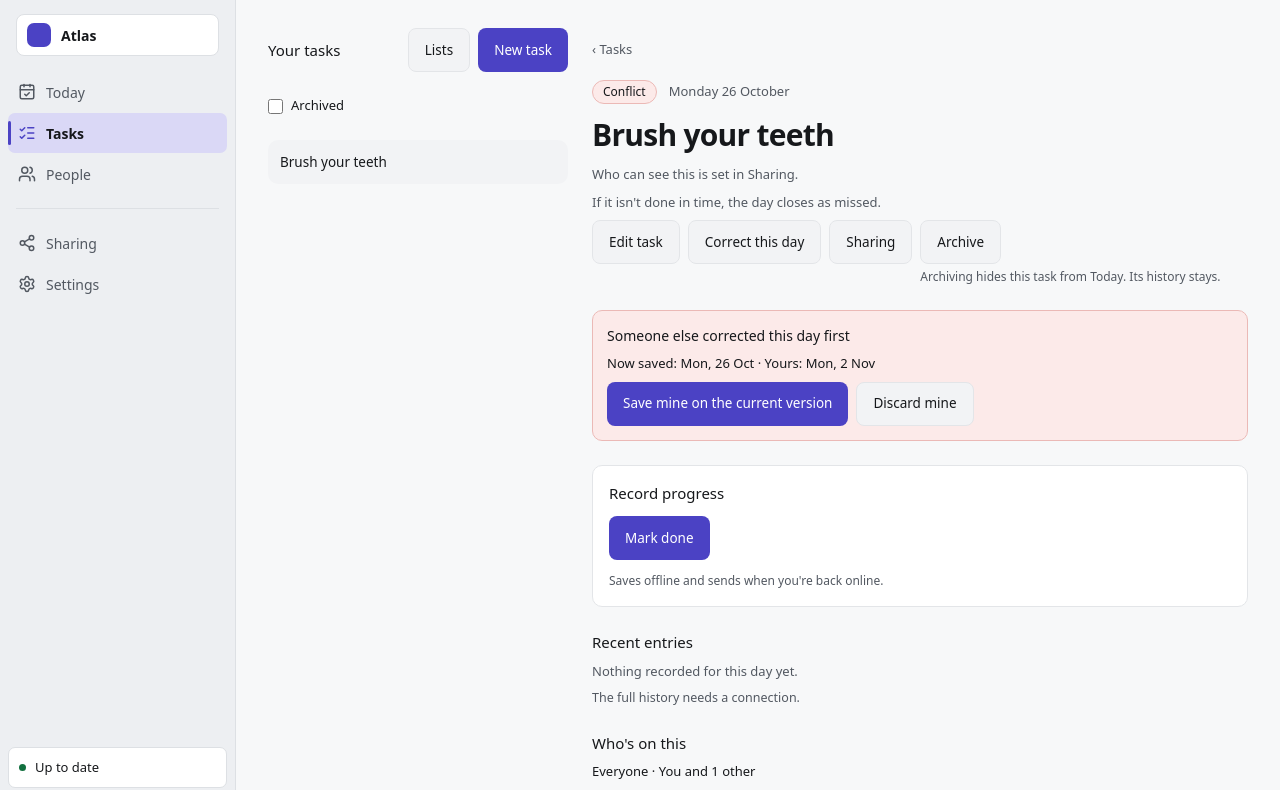
Save mine on the current version (S7, S8) › the conflicted correction edited elsewhere: the replacement is refused, nothing changes, and it says so
Click the button "Save mine on the current version" at (728, 404), box [607,382,848,426]
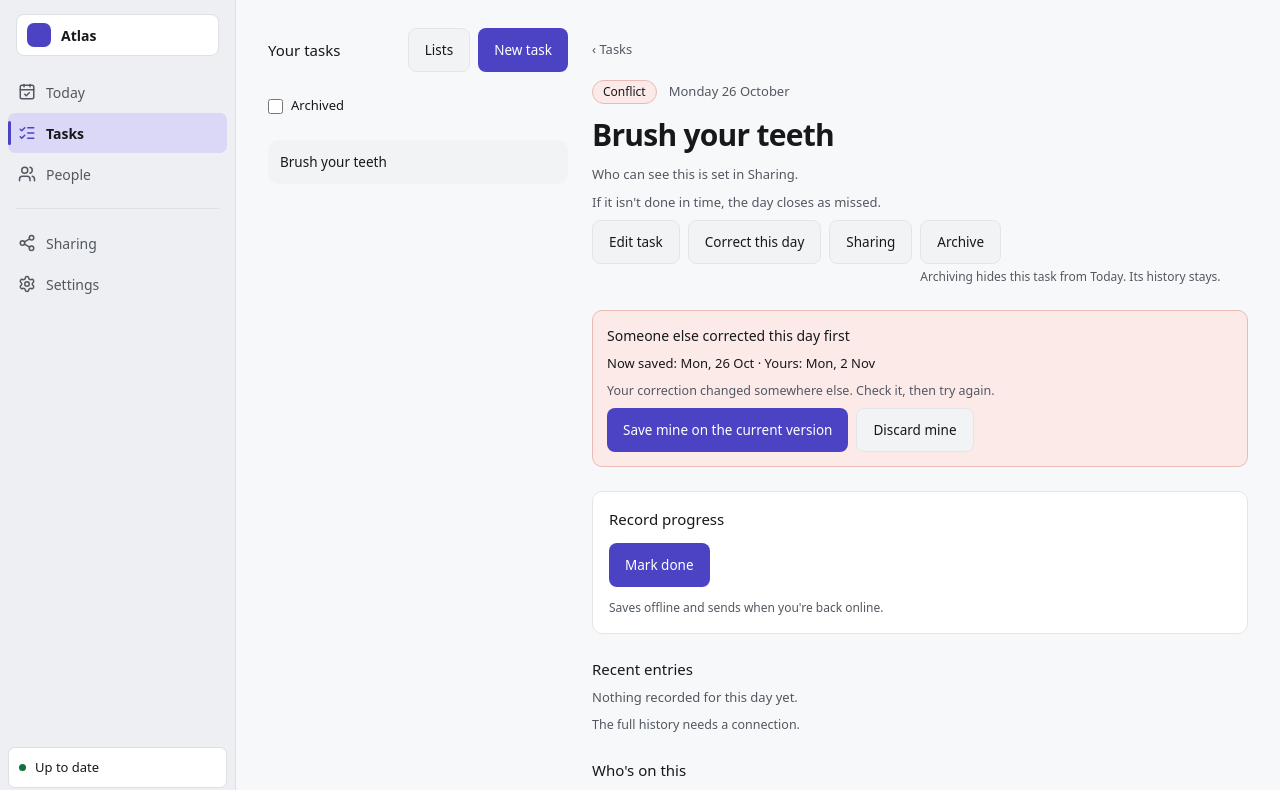
Expected: the button "Save mine on the current version" is enabled, [607,408,848,452]
Result: the text "Your correction changed somewhere else. Check it, then try again." is shown at [607,382,994,398]
